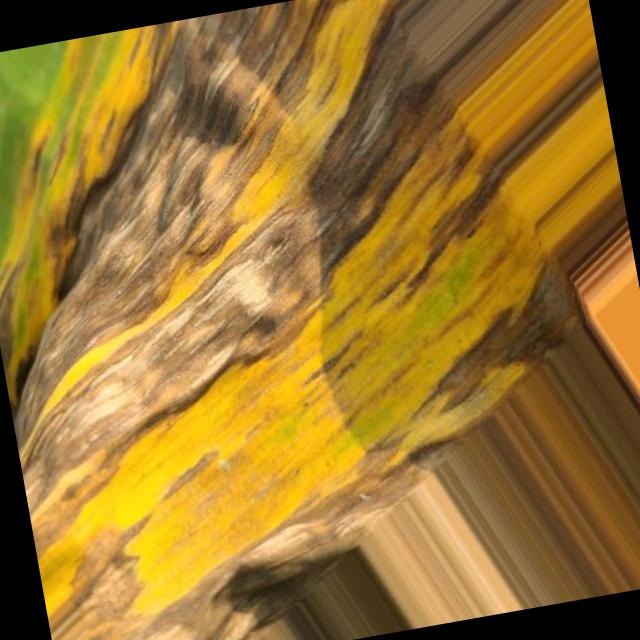Banana_Black_Sigatoka: (0, 218, 515, 640), (0, 0, 619, 283)
